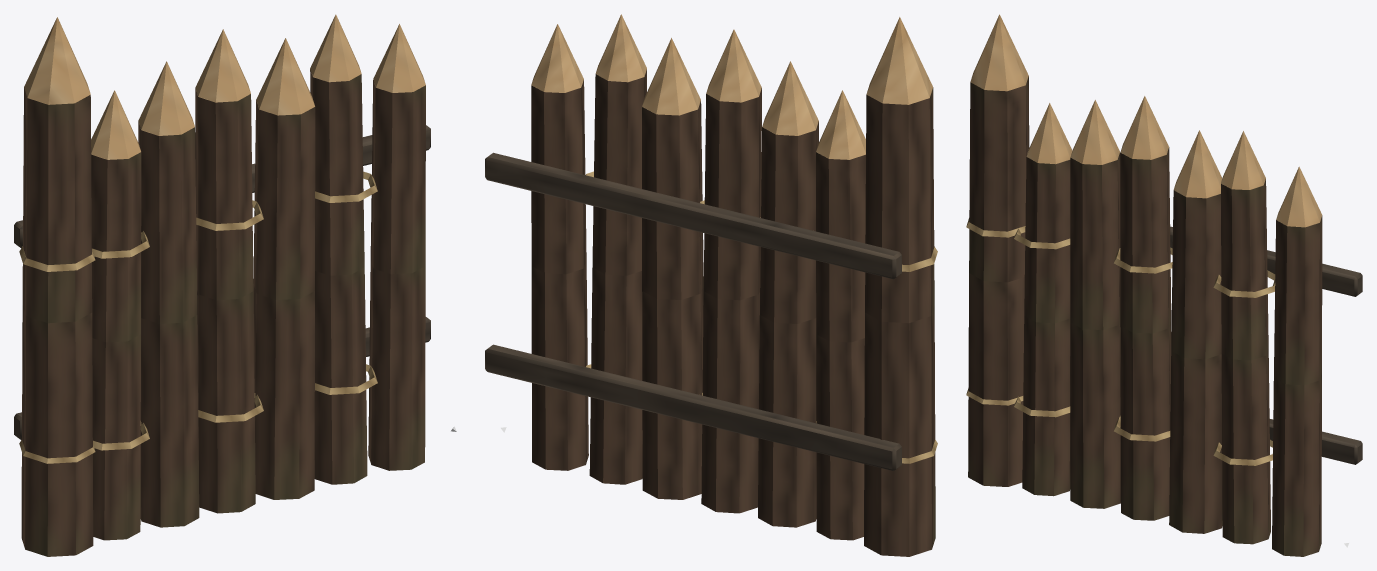
Rendered from SM_WoodenWall.fbx.
3 views of the same model, side by side, from view 1: azimuth 30°, elevation 25°; view 2: azimuth 150°, elevation 25°; view 3: azimuth 330°, elevation 25° (orthographic). The views are drawn at different scales.
Visible parts, largest first — view 1: SM_WoodenWall; view 2: SM_WoodenWall; view 3: SM_WoodenWall.
Boxes of the visible parts, x1,y1,x2,y2 form: SM_WoodenWall: [14, 14, 430, 556]; SM_WoodenWall: [485, 14, 937, 556]; SM_WoodenWall: [966, 14, 1362, 556].
Size of the model in its own units: 8.73 by 10.13 by 1.56.
1 material, 1 textured.
